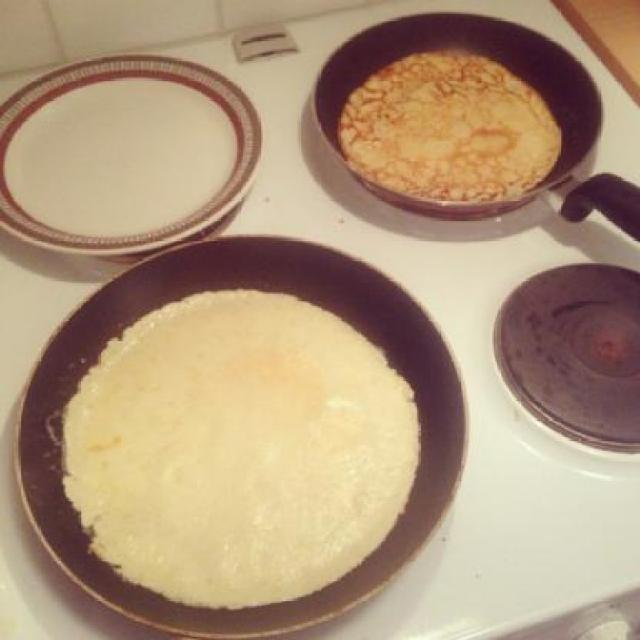Pancake: (340, 43, 571, 212)
